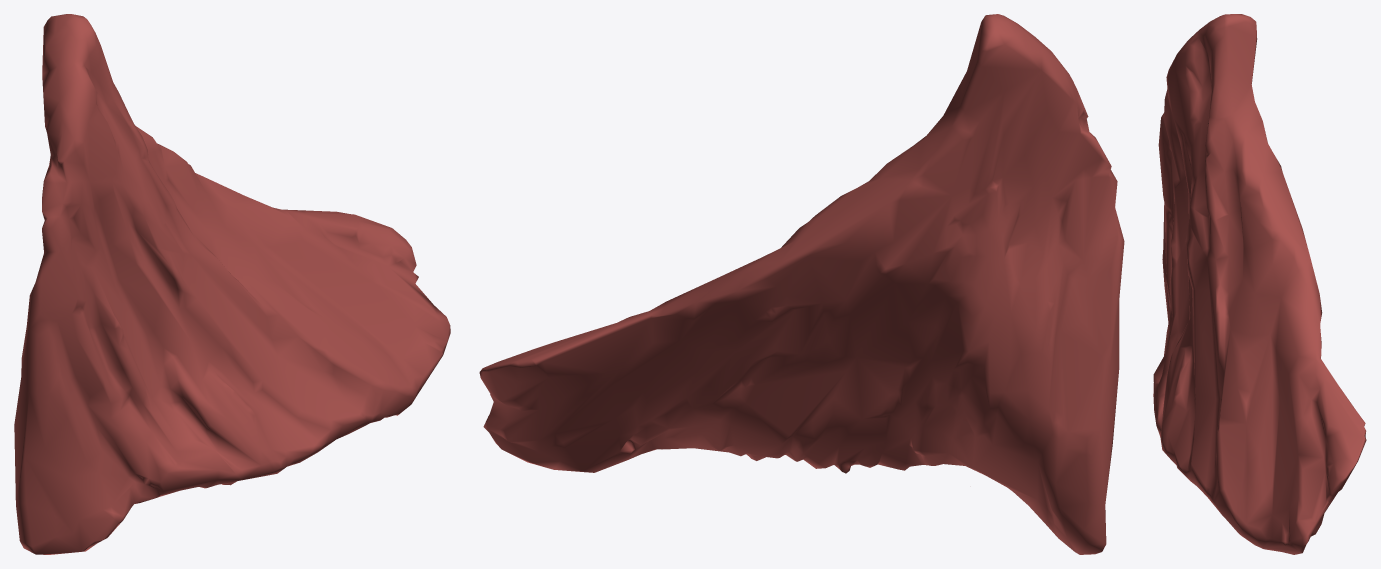
The model's file is FMA55609.glb.
The picture shows the model from 3 angles, left to right: view 1: azimuth 30°, elevation 25°; view 2: azimuth 150°, elevation 25°; view 3: azimuth 270°, elevation 25°; orthographic projection. The views are drawn at different scales.
Visible parts, largest first — view 1: FMA55609; view 2: FMA55609; view 3: FMA55609.
Boxes of the visible parts, x1,y1,x2,y2 form: FMA55609: (14, 14, 450, 554); FMA55609: (479, 14, 1124, 554); FMA55609: (1153, 14, 1366, 554).
Size of the model in its own units: 0.0162 by 0.0155 by 0.00736.
